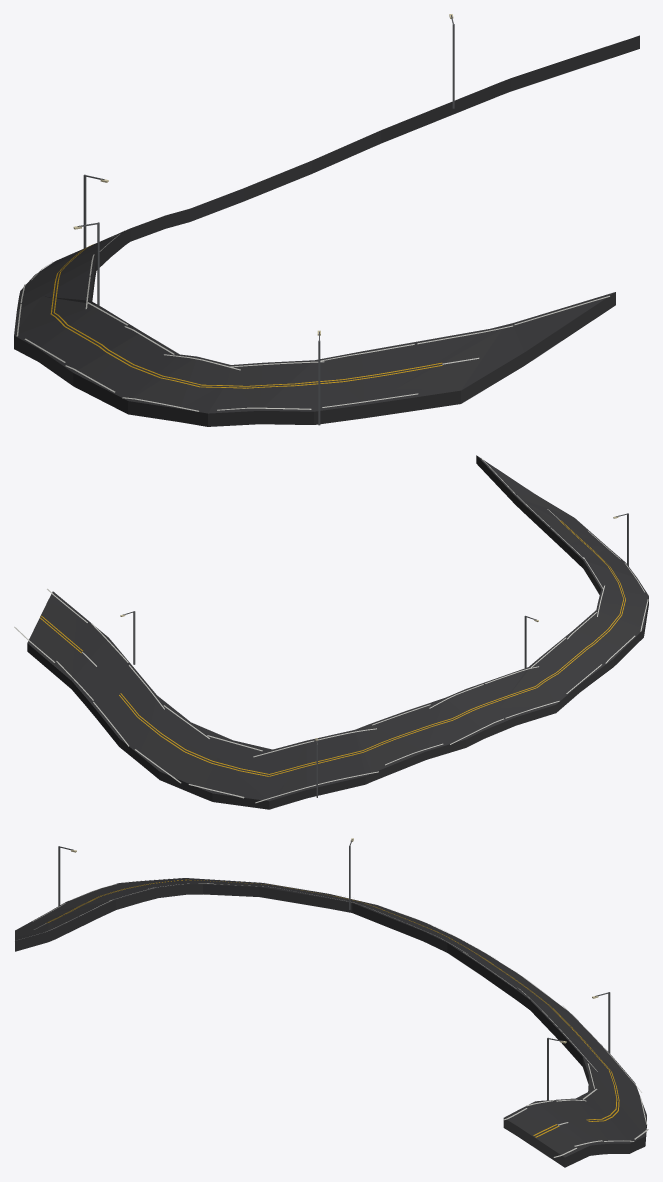
3 renders of one model, top to bottom at view 1: azimuth 30°, elevation 25°; view 2: azimuth 150°, elevation 25°; view 3: azimuth 270°, elevation 25°, orthographic. The views are drawn at different scales.
Size of the model in its own units: 70.51 by 21.63 by 67.73.
